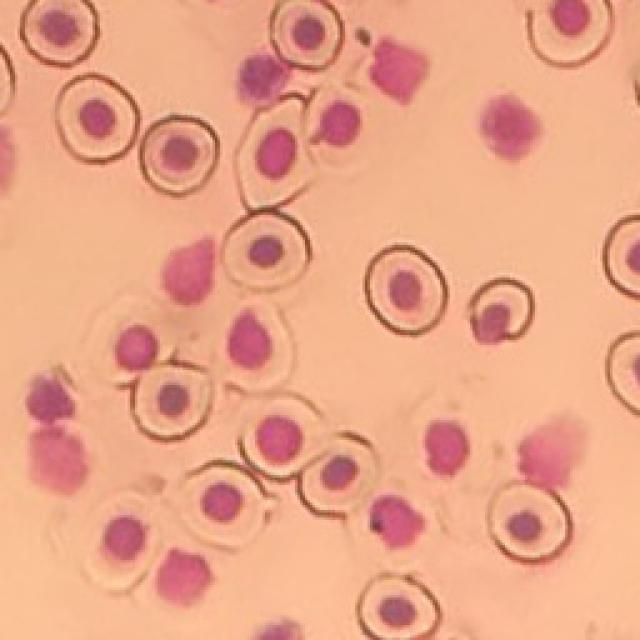RBC: (236, 96, 314, 210), (85, 293, 175, 385), (82, 490, 160, 594), (56, 75, 140, 165), (181, 463, 268, 549), (365, 246, 448, 336), (240, 395, 325, 479), (222, 211, 311, 290), (216, 302, 294, 392), (489, 482, 572, 564), (130, 361, 212, 442), (523, 0, 614, 69), (299, 436, 378, 514), (140, 118, 219, 196), (305, 85, 371, 174), (20, 0, 100, 69), (358, 575, 441, 640), (270, 0, 344, 71), (470, 279, 534, 345), (602, 216, 640, 300), (606, 332, 640, 416)
WBC: (518, 419, 586, 491), (30, 428, 89, 495), (481, 96, 540, 161), (370, 41, 428, 105), (162, 240, 214, 306), (158, 550, 212, 608), (370, 496, 424, 550), (239, 55, 290, 106), (425, 423, 469, 476), (26, 378, 75, 425)
